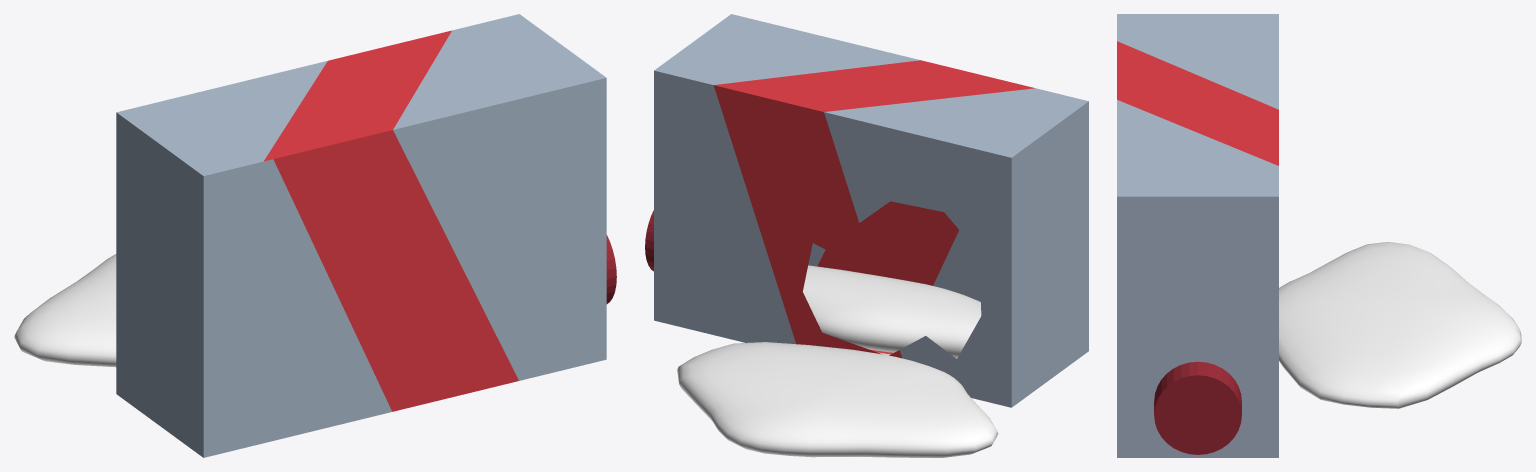
File: PoorMilk.fbx
The picture shows the model from 3 angles, left to right: view 1: azimuth 30°, elevation 25°; view 2: azimuth 150°, elevation 25°; view 3: azimuth 270°, elevation 25°; orthographic projection. The views are drawn at different scales.
Parts seen in each view (by area): view 1: Sphere.004; view 2: Sphere.004; view 3: Sphere.004.
Part boxes in pixels (left/top/right/bottom): Sphere.004: left=14, top=14, right=616, bottom=457; Sphere.004: left=645, top=14, right=1088, bottom=457; Sphere.004: left=1117, top=14, right=1521, bottom=457.
Bounding box in the file's own units: 379 × 224 × 303.
